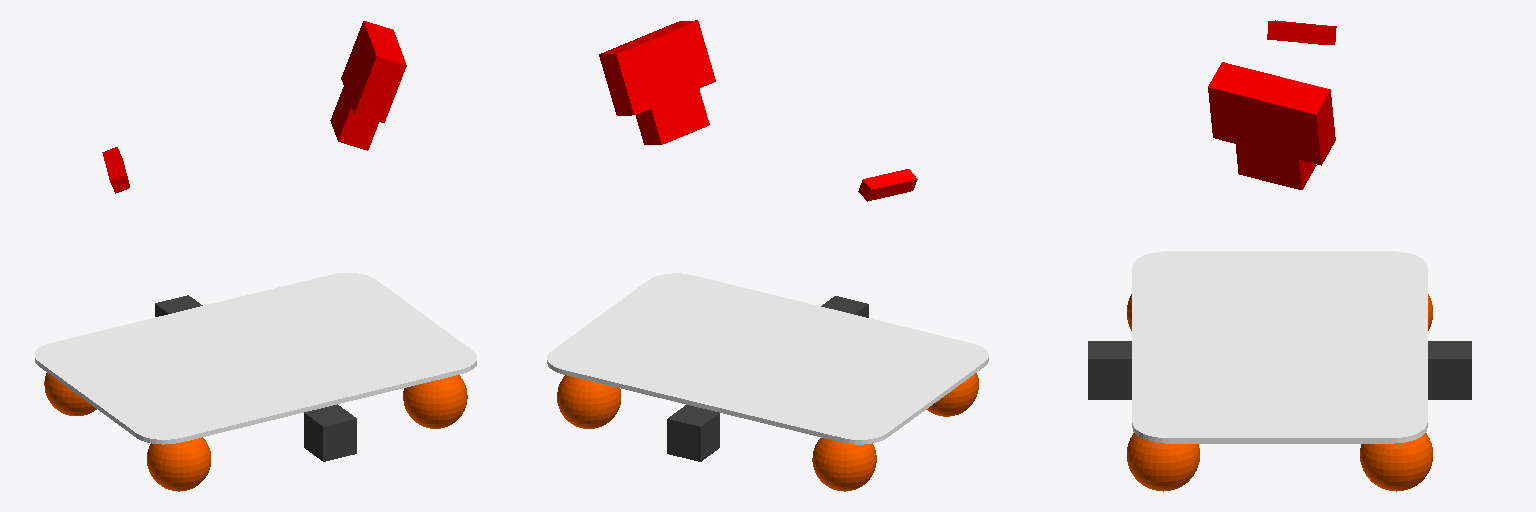
--- Facts derived from the render (not from the file) ---
The picture shows the robot from 3 angles, left to right: view 1: azimuth 30°, elevation 25°; view 2: azimuth 150°, elevation 25°; view 3: azimuth 270°, elevation 25°; orthographic projection.
Model youbot with 31 links and 30 joints (10 revolute, 8 continuous, 2 prismatic, 10 fixed), rooted at base_footprint, posed every joint at zero.
Links seen in each view (by area): view 1: plate_link, gripper_finger_link, wheel_link_br, wheel_link_fr, base_laser_left_link, gripper_palm_link, wheel_link_bl, camera_link, base_laser_right_link; view 2: plate_link, gripper_finger_link, wheel_link_bl, wheel_link_fl, gripper_palm_link, base_laser_right_link, camera_link, wheel_link_br, base_laser_left_link; view 3: plate_link, gripper_finger_link, wheel_link_fl, wheel_link_fr, base_laser_right_link, base_laser_left_link, gripper_palm_link, camera_link.
Boxes of the visible links, <box> form: plate_link: <box>35,273,476,444</box>; gripper_finger_link: <box>341,21,406,122</box>; wheel_link_br: <box>147,437,210,491</box>; wheel_link_fr: <box>403,375,467,428</box>; base_laser_left_link: <box>304,404,356,461</box>; gripper_palm_link: <box>330,87,378,150</box>; wheel_link_bl: <box>44,373,96,415</box>; camera_link: <box>102,147,129,193</box>; base_laser_right_link: <box>155,295,202,316</box>; plate_link: <box>547,273,988,444</box>; gripper_finger_link: <box>599,20,715,115</box>; wheel_link_bl: <box>812,438,876,491</box>; wheel_link_fl: <box>557,375,620,428</box>; gripper_palm_link: <box>636,89,709,144</box>; base_laser_right_link: <box>667,405,719,461</box>; camera_link: <box>858,169,917,201</box>; wheel_link_br: <box>926,373,978,416</box>; base_laser_left_link: <box>821,296,868,317</box>; plate_link: <box>1132,251,1427,443</box>; gripper_finger_link: <box>1208,62,1335,165</box>; wheel_link_fl: <box>1360,433,1432,491</box>; wheel_link_fr: <box>1127,433,1199,491</box>; base_laser_right_link: <box>1428,341,1471,399</box>; base_laser_left_link: <box>1088,341,1131,399</box>; gripper_palm_link: <box>1236,144,1316,189</box>; camera_link: <box>1267,20,1336,44</box>.
Bounding box of the posed robot: 0.6 × 0.52 × 0.6102 m (x, y, z).
Meshes: 9 distinct files referenced, 0 mesh visuals loaded (none loaded); not drawn: 16 (reference not matched to a file when rendering).

URDF robot description (youbot):
<?xml version="1.0" ?>
<!-- =================================================================================== -->
<!-- |    This document was autogenerated by xacro from ros_workspace/youbot-ros-pkg/youbot_common/youbot_description/robots/youbot.urdf.xacro | -->
<!-- |    EDITING THIS FILE BY HAND IS NOT RECOMMENDED                                 | -->
<!-- =================================================================================== -->
<robot name="youbot" xmlns:controller="http://playerstage.sourceforge.net/gazebo/xmlschema/#controller" xmlns:interface="http://playerstage.sourceforge.net/gazebo/xmlschema/#interface" xmlns:sensor="http://playerstage.sourceforge.net/gazebo/xmlschema/#sensor" xmlns:xacro="http://ros.org/wiki/xacro">
  <!-- The following included files set up definitions of parts of the robot body -->
  <!-- misc common stuff? -->
  <!-- youbot base -->
  <!-- youbot plate -->
  <!-- youbot arm -->
  <!-- youbot gripper -->
  <!-- generic simulator_gazebo plugins for starting mechanism control, ros time, ros battery -->
  <gazebo>
    <plugin filename="libgazebo_ros_controller_manager.so" name="gazebo_ros_controller_manager">
      <alwaysOn>true</alwaysOn>
      <updateRate>1000.0</updateRate>
    </plugin>
    <plugin filename="libgazebo_ros_power_monitor.so" name="gazebo_ros_power_monitor_controller">
      <alwaysOn>true</alwaysOn>
      <updateRate>1.0</updateRate>
      <timeout>5</timeout>
      <interface:audio name="power_monitor_dummy_interface"/>
      <powerStateTopic>power_state</powerStateTopic>
      <powerStateRate>10.0</powerStateRate>
      <fullChargeCapacity>87.78</fullChargeCapacity>
      <dischargeRate>-474</dischargeRate>
      <chargeRate>525</chargeRate>
      <dischargeVoltage>15.52</dischargeVoltage>
      <chargeVoltage>16.41</chargeVoltage>
    </plugin>
  </gazebo>
  <!-- materials for visualization -->
  <material name="Orange">
    <color rgba="1.0 0.4 0.0 1.0"/>
  </material>
  <material name="Grey">
    <color rgba="0.7 0.7 0.7 1.0"/>
  </material>
  <material name="DarkGrey">
    <color rgba="0.3 0.3 0.3 1.0"/>
  </material>
  <material name="White">
    <color rgba="1.0 1.0 1.0 1.0"/>
  </material>
  <material name="Black">
    <color rgba="0.0 0.0 0.0 1.0"/>
  </material>
  <material name="Red">
    <color rgba="1.0 0.0 0.0 1.0"/>
  </material>
  <material name="Green">
    <color rgba="0.0 1.0 0.0 1.0"/>
  </material>
  <!-- Now we can start using the macros included above to define the actual youbot -->
  <!-- The first use of a macro.  This one was defined in base.urdf.xacro above.
       A macro like this will expand to a set of link and joint definitions, and to additional
       Gazebo-related extensions (sensor plugins, etc).  The macro takes an argument, name, 
       that equals "base", and uses it to generate names for its component links and joints 
       (e.g., base_link).  The included origin block is also an argument to the macro.  By convention, 
       the origin block defines where the component is w.r.t its parent (in this case the parent 
       is the world frame). For more, see http://www.ros.org/wiki/xacro -->
  <!-- foot for arm-->
  <link name="base_footprint">
    <inertial>
      <mass value="0.1"/>
      <origin rpy="0 0 0" xyz="0 0 -0.05"/>
      <inertia ixx="1.0" ixy="0.0" ixz="0.0" iyy="1.0" iyz="0.0" izz="1.0"/>
    </inertial>
    <visual>
      <origin rpy="0 0 0" xyz="0 0 0"/>
      <geometry>
        <box size="0.001 0.001 0.001"/>
      </geometry>
      <material name="Red"/>
    </visual>
    <collision>
      <origin rpy="0 0 0" xyz="0 0 -0.05"/>
      <geometry>
        <box size="0.001 0.001 0.001"/>
      </geometry>
    </collision>
  </link>
  <joint name="base_footprint_joint" type="fixed">
    <origin rpy="0 0 0" xyz="0 0 0"/>
    <child link="base_link"/>
    <parent link="base_footprint"/>
  </joint>
  <link name="base_link">
    <inertial>
      <mass value="22.0"/>
      <origin xyz="0 0 0"/>
      <inertia ixx="5.652232699207" ixy="-0.009719934438" ixz="1.293988226423" iyy="5.669473158652" iyz="-0.007379583694" izz="3.683196351726"/>
    </inertial>
    <visual>
      <origin rpy="0 0 0" xyz="0 0 0"/>
      <geometry>
        <mesh filename="package://youbot_description/meshes/youbot_base/base.dae"/>
      </geometry>
      <material name="DarkGrey"/>
    </visual>
    <collision>
      <origin rpy="0 0 0" xyz="0 0 0"/>
      <geometry>
        <!--<box size="${base_size_x} ${base_size_y} ${base_size_z}" />-->
        <mesh filename="package://youbot_description/meshes/youbot_base/base_convex.dae"/>
      </geometry>
    </collision>
  </link>
 
  <joint name="caster_joint_fl" type="continuous">
    <origin rpy="0 0 0" xyz="0.228 0.158 -0.034"/>
    <axis xyz="0 0 1"/>
    <limit effort="30" velocity="10"/>
    <dynamics damping="1.0" friction="1.0"/>
    <safety_controller k_velocity="10.0"/>
    <parent link="base_link"/>
    <child link="caster_link_fl"/>
  </joint>
  <link name="caster_link_fl">
    <inertial>
      <mass value="0.1"/>
      <origin xyz="0 0 0"/>
      <inertia ixx="0.012411765597" ixy="-0.000711733678" ixz="0.00050272983" iyy="0.015218160428" iyz="-0.000004273467" izz="0.011763977943"/>
    </inertial>
  </link>
  <joint name="wheel_joint_fl" type="continuous">
    <axis xyz="0 1 0"/>
    <limit effort="30" velocity="10"/>
    <origin rpy="0 0 0" xyz="0.0 0.0 0.0"/>
    <parent link="caster_link_fl"/>
    <dynamics damping="1.0" friction="1.0"/>
    <safety_controller k_velocity="10.0"/>
    <child link="wheel_link_fl"/>
  </joint>
  <link name="wheel_link_fl">
    <inertial>
      <mass value="0.4"/>
      <origin xyz="0 0 0"/>
      <inertia ixx="0.012411765597" ixy="-0.000711733678" ixz="0.00050272983" iyy="0.015218160428" iyz="-0.000004273467" izz="0.011763977943"/>
    </inertial>
    <visual>
      <origin rpy="0 0 0" xyz="0 0 0"/>
      <!--<mesh filename="package://youbot_description/meshes/youbot_base/youbot_wheel.stl" />-->
      <geometry>
        <sphere radius="0.05"/>
      </geometry>
      <material name="Orange"/>
    </visual>
    <collision>
      <origin rpy="1.57079632679 0 0" xyz="0 0 0"/>
      <geometry>
        <cylinder length="0.05" radius="0.05"/>
      </geometry>
    </collision>
  </link>
  <joint name="caster_joint_fr" type="continuous">
    <origin rpy="0 0 0" xyz="0.228 -0.158 -0.034"/>
    <axis xyz="0 0 1"/>
    <limit effort="30" velocity="10"/>
    <dynamics damping="1.0" friction="1.0"/>
    <safety_controller k_velocity="10.0"/>
    <parent link="base_link"/>
    <child link="caster_link_fr"/>
  </joint>
  <link name="caster_link_fr">
    <inertial>
      <mass value="0.1"/>
      <origin xyz="0 0 0"/>
      <inertia ixx="0.012411765597" ixy="-0.000711733678" ixz="0.00050272983" iyy="0.015218160428" iyz="-0.000004273467" izz="0.011763977943"/>
    </inertial>
  </link>
  <joint name="wheel_joint_fr" type="continuous">
    <axis xyz="0 1 0"/>
    <limit effort="30" velocity="10"/>
    <dynamics damping="1.0" friction="1.0"/>
    <safety_controller k_velocity="10.0"/>
    <origin rpy="0 0 0" xyz="0.0 0.0 0.0"/>
    <parent link="caster_link_fr"/>
    <child link="wheel_link_fr"/>
  </joint>
  <link name="wheel_link_fr">
    <inertial>
      <mass value="0.4"/>
      <origin xyz="0 0 0"/>
      <inertia ixx="0.012411765597" ixy="-0.000711733678" ixz="0.00050272983" iyy="0.015218160428" iyz="-0.000004273467" izz="0.011763977943"/>
    </inertial>
    <visual>
      <origin rpy="0 0 0" xyz="0 0 0"/>
      <geometry>
        <!--<mesh filename="package://youbot_description/meshes/youbot_base/youbot_wheel.stl" />-->
        <sphere radius="0.05"/>
      </geometry>
      <material name="Orange"/>
    </visual>
    <collision>
      <origin rpy="1.57079632679 0 0" xyz="0 0 0"/>
      <geometry>
        <cylinder length="0.05" radius="0.05"/>
      </geometry>
    </collision>
  </link>
  <joint name="caster_joint_bl" type="continuous">
    <origin rpy="0 0 0" xyz="-0.228 0.158 -0.034"/>
    <axis xyz="0 0 1"/>
    <limit effort="30" velocity="10"/>
    <dynamics damping="1.0" friction="1.0"/>
    <safety_controller k_velocity="10.0"/>
    <parent link="base_link"/>
    <child link="caster_link_bl"/>
  </joint>
  <link name="caster_link_bl">
    <inertial>
      <mass value="0.1"/>
      <origin xyz="0 0 0"/>
      <inertia ixx="0.012411765597" ixy="-0.000711733678" ixz="0.00050272983" iyy="0.015218160428" iyz="-0.000004273467" izz="0.011763977943"/>
    </inertial>
  </link>
  <joint name="wheel_joint_bl" type="continuous">
    <axis xyz="0 1 0"/>
    <limit effort="10" velocity="10"/>
    <dynamics damping="1.0" friction="1.0"/>
    <safety_controller k_velocity="10.0"/>
    <origin rpy="0 0 0" xyz="0.0 0.0 0.0"/>
    <parent link="caster_link_bl"/>
    <child link="wheel_link_bl"/>
  </joint>
  <link name="wheel_link_bl">
    <inertial>
      <mass value="0.4"/>
      <origin xyz="0 0 0"/>
      <inertia ixx="0.012411765597" ixy="-0.000711733678" ixz="0.00050272983" iyy="0.015218160428" iyz="-0.000004273467" izz="0.011763977943"/>
    </inertial>
    <visual>
      <origin rpy="0 0 0" xyz="0 0 0"/>
      <geometry>
        <!--<mesh filename="package://youbot_description/meshes/youbot_base/youbot_wheel.stl" />-->
        <sphere radius="0.05"/>
      </geometry>
      <material name="Orange"/>
    </visual>
    <collision>
      <origin rpy="1.57079632679 0 0" xyz="0 0 0"/>
      <geometry>
        <cylinder length="0.05" radius="0.05"/>
      </geometry>
    </collision>
  </link>
  <joint name="caster_joint_br" type="continuous">
    <origin rpy="0 0 0" xyz="-0.228 -0.158 -0.034"/>
    <axis xyz="0 0 1"/>
    <limit effort="30" velocity="10"/>
    <dynamics damping="1.0" friction="1.0"/>
    <safety_controller k_velocity="10.0"/>
    <parent link="base_link"/>
    <child link="caster_link_br"/>
  </joint>
  <link name="caster_link_br">
    <inertial>
      <mass value="0.1"/>
      <origin xyz="0 0 0"/>
      <inertia ixx="0.012411765597" ixy="-0.000711733678" ixz="0.00050272983" iyy="0.015218160428" iyz="-0.000004273467" izz="0.011763977943"/>
    </inertial>
  </link>
  <joint name="wheel_joint_br" type="continuous">
    <axis xyz="0 1 0"/>
    <limit effort="30" velocity="10"/>
    <dynamics damping="1.0" friction="1.0"/>
    <safety_controller k_velocity="10.0"/>
    <origin rpy="0 0 0" xyz="0.0 0.0 0.0"/>
    <parent link="caster_link_br"/>
    <child link="wheel_link_br"/>
  </joint>
  <link name="wheel_link_br">
    <inertial>
      <mass value="0.4"/>
      <origin xyz="0 0 0"/>
      <inertia ixx="0.012411765597" ixy="-0.000711733678" ixz="0.00050272983" iyy="0.015218160428" iyz="-0.000004273467" izz="0.011763977943"/>
    </inertial>
    <visual>
      <origin rpy="0 0 0" xyz="0 0 0"/>
      <geometry>
        <!--<mesh filename="package://youbot_description/meshes/youbot_base/youbot_wheel.stl" />-->
        <sphere radius="0.05"/>
      </geometry>
      <material name="Orange"/>
    </visual>
    <collision>
      <origin rpy="1.57079632679 0 0" xyz="0 0 0"/>
      <geometry>
        <cylinder length="0.05" radius="0.05"/>
      </geometry>
    </collision>
  </link>
  <gazebo reference="youbot_base">
    <material value="youbot/DarkGrey"/>
  </gazebo>
  <gazebo reference="wheel_link_fl">
    <material value="youbot/Orange"/>
  </gazebo>
  <gazebo reference="caster_link_fl">
    <material value="youbot/Orange"/>
  </gazebo>
  <gazebo reference="wheel_link_fr">
    <material value="youbot/Orange"/>
  </gazebo>
  <gazebo reference="caster_link_fr">
    <material value="youbot/Orange"/>
  </gazebo>
  <gazebo reference="wheel_link_bl">
    <material value="youbot/Orange"/>
  </gazebo>
  <gazebo reference="caster_link_bl">
    <material value="youbot/Orange"/>
  </gazebo>
  <gazebo reference="wheel_link_br">
    <material value="youbot/Orange"/>
  </gazebo>
  <gazebo reference="caster_link_br">
    <material value="youbot/Orange"/>
  </gazebo>
  <gazebo>
    <plugin filename="libgazebo_ros_p3d.so" name="p3d_base_controller">
      <alwaysOn>true</alwaysOn>
      <updateRate>100.0</updateRate>
      <bodyName>base_link</bodyName>
      <topicName>base_pose_ground_truth</topicName>
      <gaussianNoise>0.01</gaussianNoise>
      <frameName>map</frameName>
      <xyzOffsets>25.7 25.7 0</xyzOffsets>
      <!-- initialize odometry for fake localization-->
      <rpyOffsets>0 0 0</rpyOffsets>
    </plugin>
    <canonicalBody>base_footprint</canonicalBody>
  </gazebo>
  <transmission name="wheel_trans_fl" type="pr2_mechanism_model/SimpleTransmission">
    <actuator name="wheel_motor_fl"/>
    <joint name="wheel_joint_fl"/>
    <mechanicalReduction>79.2380952381</mechanicalReduction>
  </transmission>
  <transmission name="caster_trans_fl" type="pr2_mechanism_model/SimpleTransmission">
    <actuator name="caster_motor_fl"/>
    <joint name="caster_joint_fl"/>
    <mechanicalReduction>79.2380952381</mechanicalReduction>
  </transmission>
  <transmission name="wheel_trans_fr" type="pr2_mechanism_model/SimpleTransmission">
    <actuator name="wheel_motor_fr"/>
    <joint name="wheel_joint_fr"/>
    <mechanicalReduction>79.2380952381</mechanicalReduction>
  </transmission>
  <transmission name="caster_trans_fr" type="pr2_mechanism_model/SimpleTransmission">
    <actuator name="caster_motor_fr"/>
    <joint name="caster_joint_fr"/>
    <mechanicalReduction>79.2380952381</mechanicalReduction>
  </transmission>
  <transmission name="wheel_trans_bl" type="pr2_mechanism_model/SimpleTransmission">
    <actuator name="wheel_motor_bl"/>
    <joint name="wheel_joint_bl"/>
    <mechanicalReduction>79.2380952381</mechanicalReduction>
  </transmission>
  <transmission name="caster_trans_bl" type="pr2_mechanism_model/SimpleTransmission">
    <actuator name="caster_motor_bl"/>
    <joint name="caster_joint_bl"/>
    <mechanicalReduction>79.2380952381</mechanicalReduction>
  </transmission>
  <transmission name="wheel_trans_br" type="pr2_mechanism_model/SimpleTransmission">
    <actuator name="wheel_motor_br"/>
    <joint name="wheel_joint_br"/>
    <mechanicalReduction>79.2380952381</mechanicalReduction>
  </transmission>
  <transmission name="caster_trans_br" type="pr2_mechanism_model/SimpleTransmission">
    <actuator name="caster_motor_br"/>
    <joint name="caster_joint_br"/>
    <mechanicalReduction>79.2380952381</mechanicalReduction>
  </transmission>


  <joint name="plate_joint" type="fixed">
        <origin rpy="0 0 0" xyz="0.0 0 0.02" />
        <parent link="base_link" />
        <child link="plate_link" />
  </joint>
  <link name="plate_link">
      <visual>
          <geometry>
              <box size="0.6 0.3 0.008" />
          </geometry>
          <origin xyz="0.0 0 0 " rpy="0 0 0." />
          <material name="White" />
      </visual>
      <collision>
          <origin xyz="0 0 0 " rpy="0 0 0." />
          <geometry>
              <box size="0.6 0.3 0.008" />
          </geometry>
      </collision>
      <visual>
          <geometry>
              <box size="0.5 0.4 0.008" />
          </geometry>
          <origin xyz="0.0 0 0 " rpy="0 0 0." />
          <material name="White" />
      </visual>
      <collision>
          <origin xyz="0 0 0 " rpy="0 0 0." />
          <geometry>
              <box size="0.5 0.4 0.008" />
          </geometry>
      </collision>
      <visual>
          <geometry>
              <cylinder length="0.008" radius="0.05" />
          </geometry>
          <origin xyz="0.25 0.15 0 " rpy="0 0 0." />
          <material name="White" />
      </visual>
      <collision>
          <origin xyz="0.25 0.15 0 " rpy="0 0 0." />
          <geometry>
              <cylinder length="0.008" radius="0.05" />
          </geometry>
      </collision>
      <visual>
          <geometry>
              <cylinder length="0.008" radius="0.05" />
          </geometry>
          <origin xyz="0.25 -0.15 0 " rpy="0 0 0." />
          <material name="White" />
      </visual>
      <collision>
          <origin xyz="0.25 -0.15 0 " rpy="0 0 0." />
          <geometry>
              <cylinder length="0.008" radius="0.05" />
          </geometry>
      </collision>
      <visual>
          <geometry>
              <cylinder length="0.008" radius="0.05" />
          </geometry>
          <origin xyz="-0.25 0.15 0 " rpy="0 0 0." />
          <material name="White" />
      </visual>
      <collision>
          <origin xyz="-0.25 0.15 0 " rpy="0 0 0." />
          <geometry>
              <cylinder length="0.008" radius="0.05" />
          </geometry>
      </collision>
      <visual>
          <geometry>
              <cylinder length="0.008" radius="0.05" />
          </geometry>
          <origin xyz="-0.25 -0.15 0 " rpy="0 0 0." />
          <material name="White" />
      </visual>
      <collision>
          <origin xyz="-0.25 -0.15 0 " rpy="0 0 0." />
          <geometry>
              <cylinder length="0.008" radius="0.05" />
          </geometry>
      </collision>
      
      <inertial>
          <mass value="0.1" />
          <inertia ixx="0.03" iyy="0.03" izz="0.03" ixy="0.0" ixz="0.0" iyz="0.0" />
      </inertial>
    </link>

  <joint name="base_laser_right_joint" type="fixed">
      <origin rpy="0 0 0" xyz="0.0 0.23 -0.004" />
      <parent link="plate_link" />
      <child link="base_laser_right_link" />
  </joint>
  <link name="base_laser_right_link">
      <visual>
          <geometry>
              <box size="0.06 0.06 0.06" />
          </geometry>
          <origin xyz="0.0 0 -0.03 " rpy="0 0 0." />
          <material name="DarkGrey" />
      </visual>
      <collision>
          <origin xyz="0.0 0 -0.03 " rpy="0 0 0." />
          <geometry>
              <box size="0.06 0.06 0.06" />
          </geometry>
      </collision>
      
      <inertial>
          <mass value="0.1" />
          <inertia ixx="0.03" iyy="0.03" izz="0.03" ixy="0.0" ixz="0.0" iyz="0.0" />
      </inertial>

  </link>
  <joint name="base_laser_left_joint" type="fixed">
      <origin rpy="0 0 0" xyz="0.0 -0.23 -0.004" />
      <parent link="plate_link" />
      <child link="base_laser_left_link" />
  </joint>
  <link name="base_laser_left_link">
      <visual>
          <geometry>
              <box size="0.06 0.06 0.06" />
          </geometry>
          <origin xyz="0.0 0 -0.03 " rpy="0 0 0." />
          <material name="DarkGrey" />
      </visual>
      <collision>
          <origin xyz="0.0 0 -0.03 " rpy="0 0 0." />
          <geometry>
              <box size="0.06 0.06 0.06" />
          </geometry>
      </collision>
      <inertial>
          <mass value="0.1" />
          <inertia ixx="0.03" iyy="0.03" izz="0.03" ixy="0.0" ixz="0.0" iyz="0.0" />
      </inertial>
  </link>

  <joint name="arm_joint_0" type="fixed">
    <origin rpy="0 0 0" xyz="0.123 0 0.056"/>
    <parent link="base_link"/>
    <child link="arm_link_0"/>
  </joint>
  <link name="arm_link_0">
    <inertial>
      <!--<origin xyz="0.023 0 0.006" rpy="0 0 0"/>-->
      <origin rpy="0 0 0" xyz="0 0 0"/>
      <mass value="0.845"/>
      <inertia ixx="0.01" ixy="0" ixz="0" iyy="0.01" iyz="0" izz="0.01"/>
    </inertial>
    <visual>
      <origin rpy="0 0 0" xyz="0 0 0"/>
      <geometry>
        <mesh filename="package://youbot_description/meshes/youbot_arm/arm0.dae"/>
      </geometry>
      <material name="DarkGrey"/>
    </visual>
    <collision>
      <!--<origin xyz="0.023 0 0.006" rpy="0 0 0"/>-->
      <origin rpy="0 0 0" xyz="0 0 0"/>
      <geometry>
        <mesh filename="package://youbot_description/meshes/youbot_arm/arm0_convex.dae"/>
        <!--<cylinder length="0.078" radius="0.093"/>-->
      </geometry>
    </collision>
  </link>
  <joint name="arm_joint_1" type="revolute">
    <!-- <origin rpy="0 0 2.96705972839" xyz="0.024 0 0.096"/> -->
    <origin rpy="0 0 2.94960643587" xyz="0.024 0 0.096"/>
    <parent link="arm_link_0"/>
    <child link="arm_link_1"/>
    <axis xyz="0 0 -1"/>
    <!--<calibration rising="${arm_1_ref}" falling="${arm_1_ref}"/>-->
    <dynamics damping="1" friction="1"/>
    <!-- damping - N*s/m, N*s*m/rad -->
    <!-- friction - N, N*m -->
    <limit effort="9.5" lower="0" upper="5.89921287174" velocity="1.57079632679"/>
    <!--effort - N, N*m-->
    <!--velocity - m/s, rad/s-->
    <safety_controller k_position="20" k_velocity="1.51197195937" soft_lower_limit="0.001" soft_upper_limit="5.89821287174"/>
    <!--k_position N/m, N/rad-->
    <!--k_velocity N*s/m, N*s*m/rad-->
    <!--for details: http://www.ros.org/wiki/pr2_controller_manager/safety_limits-->
  </joint>
  <link name="arm_link_1">
    <inertial>
      <mass value="2.412"/>
      <origin rpy="0 0 0" xyz="0.01489 0.00213 0.00213"/>
      <inertia ixx="0.003863" ixy="-0.000979" ixz="0.000000" iyy="0.006196" iyz="0.000000" izz="0.006369"/>
    </inertial>
    <visual>
      <origin rpy="0 0 0" xyz="0 0 0"/>
      <geometry>
        <mesh filename="package://youbot_description/meshes/youbot_arm/arm1.dae"/>
      </geometry>
      <!--<material name="Orange" />-->
    </visual>
    <collision>
      <!--<origin xyz="0 0 -0.003" rpy="0 0 0" />-->
      <origin rpy="0 0 0" xyz="0 0 0"/>
      <geometry>
        <mesh filename="package://youbot_description/meshes/youbot_arm/arm1_convex.dae"/>
        <!--<cylinder length="0.102" radius="0.080"/>-->
      </geometry>
    </collision>
  </link>
  <joint name="arm_joint_2" type="revolute">
    <origin rpy="0 -1.1344640138 0" xyz="0.033 0 0.019"/>
    <parent link="arm_link_1"/>
    <child link="arm_link_2"/>
    <axis xyz="0 1 0"/>
    <!--<calibration rising="${arm_2_ref}" falling="${arm_2_ref}"/>-->
    <dynamics damping="1" friction="1"/>
    <limit effort="9.5" lower="0" upper="2.70526034059" velocity="1.57079632679"/>
    <safety_controller k_position="20" k_velocity="6.04788783749" soft_lower_limit="0.001" soft_upper_limit="2.70426034059"/>
  </joint>
  <link name="arm_link_2">
    <inertial>
      <mass value="1.155"/>
      <origin rpy="0 0 0" xyz="0.10453 0.0017 -0.00297"/>
      <inertia ixx="0.000823" ixy="0.000000" ixz="-0.000000" iyy="0.004447" iyz="0.000000" izz="0.004439"/>
    </inertial>
    <visual>
      <origin rpy="0 0 0" xyz="0 -0.032 0.078"/>
      <geometry>
        <mesh filename="package://youbot_description/meshes/youbot_arm/arm2.dae"/>
      </geometry>
      <material name="Orange"/>
    </visual>
    <collision>
      <!--<origin xyz="0.001 -0.041 0.074" rpy="0 0 0" />-->
      <origin rpy="0 0 0" xyz="0 -0.032 0.078"/>
      <geometry>
        <mesh filename="package://youbot_description/meshes/youbot_arm/arm2_convex.dae"/>
        <!--<box size="0.074 0.082 0.222"/>-->
      </geometry>
    </collision>
  </link>
  <joint name="arm_joint_3" type="revolute">
    <origin rpy="0 2.54818070791 0" xyz="0.000 0.000 0.155"/>
    <parent link="arm_link_2"/>
    <child link="arm_link_3"/>
    <axis xyz="0 1 0"/>
    <dynamics damping="1" friction="1"/>
    <limit effort="6.0" lower="-5.18362787842" upper="0" velocity="1.57079632679"/>
    <safety_controller k_position="20" k_velocity="50" soft_lower_limit="-5.18262787842" soft_upper_limit="-0.001"/>
  </joint>
  <link name="arm_link_3">
    <inertial>
      <mass value="0.934"/>
      <origin rpy="0 0 0" xyz="0.0001 0.0967 0.02107"/>
      <inertia ixx="0.002459" ixy="0.000000" ixz="0.000000" iyy="0.002571" iyz="-0.000000" izz="0.000535"/>
    </inertial>
    <visual>
      <origin rpy="0 0 0" xyz="0.000 0.028 0.079"/>
      <geometry>
        <mesh filename="package://youbot_description/meshes/youbot_arm/arm3.dae"/>
      </geometry>
      <material name="Orange"/>
    </visual>
    <collision>
      <!--<origin xyz="0.000 0.025 0.067" rpy="0 0 0" />-->
      <origin rpy="0 0 0" xyz="0.000 0.028 0.079"/>
      <geometry>
        <mesh filename="package://youbot_description/meshes/youbot_arm/arm3_convex.dae"/>
        <!--<box size="0.064 0.054 0.192"/>-->
      </geometry>
    </collision>
  </link>
  <joint name="arm_joint_4" type="revolute">
    <origin rpy="0 -1.78896248329 0" xyz="0.000 0.000 0.135"/>
    <parent link="arm_link_3"/>
    <child link="arm_link_4"/>
    <axis xyz="0 1 0"/>
    <!--<calibration rising="${arm_4_ref}" falling="${arm_4_ref}"/>-->
    <dynamics damping="1" friction="1"/>
    <limit effort="2.0" lower="0" upper="3.57792496659" velocity="1.57079632679"/>
    <safety_controller k_position="20" k_velocity="100" soft_lower_limit="0" soft_upper_limit="3.57692496659"/>
  </joint>
  <link name="arm_link_4">
    <inertial>
      <mass value="0.877"/>
      <origin rpy="0 0 0" xyz="0.00011 0.05103 -0.02319"/>
      <inertia ixx="0.000869" ixy="0.000000" ixz="-0.000000" iyy="0.001173" iyz="-0.000231" izz="0.001091"/>
    </inertial>
    <visual>
      <origin rpy="0 0 0" xyz="0 -0.010 0.029"/>
      <geometry>
        <mesh filename="package://youbot_description/meshes/youbot_arm/arm4.dae"/>
      </geometry>
      <material name="Orange"/>
    </visual>
    <collision>
      <!--<origin xyz="0 0 0.026" rpy="0 0 0" />-->
      <origin rpy="0 0 0" xyz="0 -0.010 0.029"/>
      <geometry>
        <mesh filename="package://youbot_description/meshes/youbot_arm/arm4_convex.dae"/>
        <!--<box size="0.058 0.100 0.118"/>-->
      </geometry>
    </collision>
  </link>
  <joint name="arm_joint_5" type="revolute">
    <origin rpy="0 0 2.92342649709" xyz="-0.002 0 0.130"/>
    <parent link="arm_link_4"/>
    <child link="arm_link_5"/>
    <axis xyz="0 0 -1"/>
    <!--<calibration rising="${arm_5_ref}" falling="${arm_5_ref}"/>-->
    <dynamics damping="1" friction="1"/>
    <limit effort="1" lower="0" upper="5.84685299418" velocity="1.57079632679"/>
    <safety_controller k_position="20" k_velocity="100" soft_lower_limit="0" soft_upper_limit="5.84585299418"/>
  </joint>
  <link name="arm_link_5">
    <inertial>
      <mass value="0.251"/>
      <origin rpy="0 0 0" xyz="0.0 0.00115 -0.01683"/>
      <inertia ixx="0.000280" ixy="0.000000" ixz="0.000000" iyy="0.000339" iyz="0.000000" izz="0.000119"/>
    </inertial>
    <visual>
      <origin rpy="0 0 0" xyz="0.003 0 -0.034"/>
      <geometry>
        <mesh filename="package://youbot_description/meshes/youbot_arm/arm5.dae"/>
      </geometry>
      <material name="DarkGrey"/>
    </visual>
    <collision>
      <origin rpy="0 0 0" xyz="0.003 0 -0.034"/>
      <geometry>
        <mesh filename="package://youbot_description/meshes/youbot_arm/arm5_convex.dae"/>
        <!--<box size="0.054 0.096 0.030"/>-->
      </geometry>
    </collision>
  </link>
  <gazebo reference="arm_link_0">
    <material value="youbot/DarkGrey"/>
    <turnGravityOff>false</turnGravityOff>
  </gazebo>
  <gazebo reference="arm_link_1">
    <!--<material value="youbot/Orange" />-->
    <turnGravityOff>false</turnGravityOff>
  </gazebo>
  <gazebo reference="arm_link_2">
    <!--<material value="youbot/Orange" />-->
    <turnGravityOff>false</turnGravityOff>
  </gazebo>
  <gazebo reference="arm_link_3">
    <!--<material value="youbot/Orange" />-->
    <turnGravityOff>false</turnGravityOff>
  </gazebo>
  <gazebo reference="arm_link_4">
    <!--<material value="youbot/Orange" />-->
    <turnGravityOff>false</turnGravityOff>
  </gazebo>
  <gazebo reference="arm_link_5">
    <!--<material value="youbot/DarkGrey" />-->
    <turnGravityOff>false</turnGravityOff>
  </gazebo>
  <transmission name="arm_trans_1" type="pr2_mechanism_model/SimpleTransmission">
    <actuator name="arm_motor_1"/>
    <joint name="arm_joint_1"/>
    <mechanicalReduction>1</mechanicalReduction>
  </transmission>
  <transmission name="arm_trans_2" type="pr2_mechanism_model/SimpleTransmission">
    <actuator name="arm_motor_2"/>
    <joint name="arm_joint_2"/>
    <mechanicalReduction>1</mechanicalReduction>
  </transmission>
  <transmission name="arm_trans_3" type="pr2_mechanism_model/SimpleTransmission">
    <actuator name="arm_motor_3"/>
    <joint name="arm_joint_3"/>
    <mechanicalReduction>1</mechanicalReduction>
  </transmission>
  <transmission name="arm_trans_4" type="pr2_mechanism_model/SimpleTransmission">
    <actuator name="arm_motor_4"/>
    <joint name="arm_joint_4"/>
    <mechanicalReduction>1</mechanicalReduction>
  </transmission>
  <transmission name="arm_trans_5" type="pr2_mechanism_model/SimpleTransmission">
    <actuator name="arm_motor_5"/>
    <joint name="arm_joint_5"/>
    <mechanicalReduction>1</mechanicalReduction>
  </transmission>
    <joint name="arm_2_joint_0" type="fixed">
    <origin rpy="0 0 3.1415" xyz="-0.123 0 0.056"/>
    <parent link="base_link"/>
    <child link="arm_2_link_0"/>
  </joint>
  <link name="arm_2_link_0">
    <inertial>
      <!--<origin xyz="0.023 0 0.006" rpy="0 0 0"/>-->
      <origin rpy="0 0 0" xyz="0 0 0"/>
      <mass value="0.845"/>
      <inertia ixx="0.01" ixy="0" ixz="0" iyy="0.01" iyz="0" izz="0.01"/>
    </inertial>
    <visual>
      <origin rpy="0 0 0" xyz="0 0 0"/>
      <geometry>
        <mesh filename="package://youbot_description/meshes/youbot_arm/arm0.dae"/>
      </geometry>
      <material name="DarkGrey"/>
    </visual>
    <collision>
      <!--<origin xyz="0.023 0 0.006" rpy="0 0 0"/>-->
      <origin rpy="0 0 0" xyz="0 0 0"/>
      <geometry>
        <mesh filename="package://youbot_description/meshes/youbot_arm/arm0_convex.dae"/>
        <!--<cylinder length="0.078" radius="0.093"/>-->
      </geometry>
    </collision>
  </link>
  <joint name="arm_2_joint_1" type="revolute">
    <!-- <origin rpy="0 0 2.96705972839" xyz="0.024 0 0.096"/> -->
    <origin rpy="0 0 2.94960643587" xyz="0.024 0 0.096"/>
    <parent link="arm_2_link_0"/>
    <child link="arm_2_link_1"/>
    <axis xyz="0 0 -1"/>
    <!--<calibration rising="${arm_1_ref}" falling="${arm_1_ref}"/>-->
    <dynamics damping="1" friction="1"/>
    <!-- damping - N*s/m, N*s*m/rad -->
    <!-- friction - N, N*m -->
    <limit effort="9.5" lower="0" upper="5.89921287174" velocity="1.57079632679"/>
    <!--effort - N, N*m-->
    <!--velocity - m/s, rad/s-->
    <safety_controller k_position="20" k_velocity="1.51197195937" soft_lower_limit="0.001" soft_upper_limit="5.89821287174"/>
    <!--k_position N/m, N/rad-->
    <!--k_velocity N*s/m, N*s*m/rad-->
    <!--for details: http://www.ros.org/wiki/pr2_controller_manager/safety_limits-->
  </joint>
  <link name="arm_2_link_1">
    <inertial>
      <mass value="2.412"/>
      <origin rpy="0 0 0" xyz="0.01489 0.00213 0.00213"/>
      <inertia ixx="0.003863" ixy="-0.000979" ixz="0.000000" iyy="0.006196" iyz="0.000000" izz="0.006369"/>
    </inertial>
    <visual>
      <origin rpy="0 0 0" xyz="0 0 0"/>
      <geometry>
        <mesh filename="package://youbot_description/meshes/youbot_arm/arm1.dae"/>
      </geometry>
      <!--<material name="Orange" />-->
    </visual>
    <collision>
      <!--<origin xyz="0 0 -0.003" rpy="0 0 0" />-->
      <origin rpy="0 0 0" xyz="0 0 0"/>
      <geometry>
        <mesh filename="package://youbot_description/meshes/youbot_arm/arm1_convex.dae"/>
        <!--<cylinder length="0.102" radius="0.080"/>-->
      </geometry>
    </collision>
  </link>
  <joint name="arm_2_joint_2" type="revolute">
    <origin rpy="0 -1.1344640138 0" xyz="0.033 0 0.019"/>
    <parent link="arm_2_link_1"/>
    <child link="arm_2_link_2"/>
    <axis xyz="0 1 0"/>
    <!--<calibration rising="${arm_2_ref}" falling="${arm_2_ref}"/>-->
    <dynamics damping="1" friction="1"/>
    <limit effort="9.5" lower="0" upper="2.70526034059" velocity="1.57079632679"/>
    <safety_controller k_position="20" k_velocity="6.04788783749" soft_lower_limit="0.001" soft_upper_limit="2.70426034059"/>
  </joint>
  <link name="arm_2_link_2">
    <inertial>
      <mass value="1.155"/>
      <origin rpy="0 0 0" xyz="0.10453 0.0017 -0.00297"/>
      <inertia ixx="0.000823" ixy="0.000000" ixz="-0.000000" iyy="0.004447" iyz="0.000000" izz="0.004439"/>
    </inertial>
    <visual>
      <origin rpy="0 0 0" xyz="0 -0.032 0.078"/>
      <geometry>
        <mesh filename="package://youbot_description/meshes/youbot_arm/arm2.dae"/>
      </geometry>
      <material name="Orange"/>
    </visual>
    <collision>
      <!--<origin xyz="0.001 -0.041 0.074" rpy="0 0 0" />-->
      <origin rpy="0 0 0" xyz="0 -0.032 0.078"/>
      <geometry>
        <mesh filename="package://youbot_description/meshes/youbot_arm/arm2_convex.dae"/>
        <!--<box size="0.074 0.082 0.222"/>-->
      </geometry>
    </collision>
  </link>
  <joint name="arm_2_joint_3" type="revolute">
    <origin rpy="0 2.54818070791 0" xyz="0.000 0.000 0.155"/>
    <parent link="arm_2_link_2"/>
    <child link="arm_2_link_3"/>
    <axis xyz="0 1 0"/>
    <dynamics damping="1" friction="1"/>
    <limit effort="6.0" lower="-5.18362787842" upper="0" velocity="1.57079632679"/>
    <safety_controller k_position="20" k_velocity="50" soft_lower_limit="-5.18262787842" soft_upper_limit="-0.001"/>
  </joint>
  <link name="arm_2_link_3">
    <inertial>
      <mass value="0.934"/>
      <origin rpy="0 0 0" xyz="0.0001 0.0967 0.02107"/>
      <inertia ixx="0.002459" ixy="0.000000" ixz="0.000000" iyy="0.002571" iyz="-0.000000" izz="0.000535"/>
    </inertial>
    <visual>
      <origin rpy="0 0 0" xyz="0.000 0.028 0.079"/>
      <geometry>
        <mesh filename="package://youbot_description/meshes/youbot_arm/arm3.dae"/>
      </geometry>
      <material name="Orange"/>
    </visual>
    <collision>
      <!--<origin xyz="0.000 0.025 0.067" rpy="0 0 0" />-->
      <origin rpy="0 0 0" xyz="0.000 0.028 0.079"/>
      <geometry>
        <mesh filename="package://youbot_description/meshes/youbot_arm/arm3_convex.dae"/>
        <!--<box size="0.064 0.054 0.192"/>-->
      </geometry>
    </collision>
  </link>
  <joint name="arm_2_joint_4" type="revolute">
    <origin rpy="0 -1.78896248329 0" xyz="0.000 0.000 0.135"/>
    <parent link="arm_2_link_3"/>
    <child link="arm_2_link_4"/>
    <axis xyz="0 1 0"/>
    <!--<calibration rising="${arm_4_ref}" falling="${arm_4_ref}"/>-->
    <dynamics damping="1" friction="1"/>
    <limit effort="2.0" lower="0" upper="3.57792496659" velocity="1.57079632679"/>
    <safety_controller k_position="20" k_velocity="100" soft_lower_limit="0" soft_upper_limit="3.57692496659"/>
  </joint>
  <link name="arm_2_link_4">
    <inertial>
      <mass value="0.877"/>
      <origin rpy="0 0 0" xyz="0.00011 0.05103 -0.02319"/>
      <inertia ixx="0.000869" ixy="0.000000" ixz="-0.000000" iyy="0.001173" iyz="-0.000231" izz="0.001091"/>
    </inertial>
    <visual>
      <origin rpy="0 0 0" xyz="0 -0.010 0.029"/>
      <geometry>
        <mesh filename="package://youbot_description/meshes/youbot_arm/arm4.dae"/>
      </geometry>
      <material name="Orange"/>
    </visual>
    <collision>
      <!--<origin xyz="0 0 0.026" rpy="0 0 0" />-->
      <origin rpy="0 0 0" xyz="0 -0.010 0.029"/>
      <geometry>
        <mesh filename="package://youbot_description/meshes/youbot_arm/arm4_convex.dae"/>
        <!--<box size="0.058 0.100 0.118"/>-->
      </geometry>
    </collision>
  </link>
  <joint name="arm_2_joint_5" type="revolute">
    <origin rpy="0 0 2.92342649709" xyz="-0.002 0 0.130"/>
    <parent link="arm_2_link_4"/>
    <child link="arm_2_link_5"/>
    <axis xyz="0 0 -1"/>
    <!--<calibration rising="${arm_5_ref}" falling="${arm_5_ref}"/>-->
    <dynamics damping="1" friction="1"/>
    <limit effort="1" lower="0" upper="5.84685299418" velocity="1.57079632679"/>
    <safety_controller k_position="20" k_velocity="100" soft_lower_limit="0" soft_upper_limit="5.84585299418"/>
  </joint>
  <link name="arm_2_link_5">
    <inertial>
      <mass value="0.251"/>
      <origin rpy="0 0 0" xyz="0.0 0.00115 -0.01683"/>
      <inertia ixx="0.000280" ixy="0.000000" ixz="0.000000" iyy="0.000339" iyz="0.000000" izz="0.000119"/>
    </inertial>
    <visual>
      <origin rpy="0 0 0" xyz="0.003 0 -0.034"/>
      <geometry>
        <mesh filename="package://youbot_description/meshes/youbot_arm/arm5.dae"/>
      </geometry>
      <material name="DarkGrey"/>
    </visual>
    <collision>
      <origin rpy="0 0 0" xyz="0.003 0 -0.034"/>
      <geometry>
        <mesh filename="package://youbot_description/meshes/youbot_arm/arm5_convex.dae"/>
        <!--<box size="0.054 0.096 0.030"/>-->
      </geometry>
    </collision>
  </link>
  <gazebo reference="arm_2_link_0">
    <material value="youbot/DarkGrey"/>
    <turnGravityOff>false</turnGravityOff>
  </gazebo>
  <gazebo reference="arm_2_link_1">
    <!--<material value="youbot/Orange" />-->
    <turnGravityOff>false</turnGravityOff>
  </gazebo>
  <gazebo reference="arm_2_link_2">
    <!--<material value="youbot/Orange" />-->
    <turnGravityOff>false</turnGravityOff>
  </gazebo>
  <gazebo reference="arm_2_link_3">
    <!--<material value="youbot/Orange" />-->
    <turnGravityOff>false</turnGravityOff>
  </gazebo>
  <gazebo reference="arm_2_link_4">
    <!--<material value="youbot/Orange" />-->
    <turnGravityOff>false</turnGravityOff>
  </gazebo>
  <gazebo reference="arm_2_link_5">
    <!--<material value="youbot/DarkGrey" />-->
    <turnGravityOff>false</turnGravityOff>
  </gazebo>
  <transmission name="arm_2_trans_1" type="pr2_mechanism_model/SimpleTransmission">
    <actuator name="arm_2_motor_1"/>
    <joint name="arm_2_joint_1"/>
    <mechanicalReduction>1</mechanicalReduction>
  </transmission>
  <transmission name="arm_2_trans_2" type="pr2_mechanism_model/SimpleTransmission">
    <actuator name="arm_2_motor_2"/>
    <joint name="arm_2_joint_2"/>
    <mechanicalReduction>1</mechanicalReduction>
  </transmission>
  <transmission name="arm_2_trans_3" type="pr2_mechanism_model/SimpleTransmission">
    <actuator name="arm_2_motor_3"/>
    <joint name="arm_2_joint_3"/>
    <mechanicalReduction>1</mechanicalReduction>
  </transmission>
  <transmission name="arm_2_trans_4" type="pr2_mechanism_model/SimpleTransmission">
    <actuator name="arm_2_motor_4"/>
    <joint name="arm_2_joint_4"/>
    <mechanicalReduction>1</mechanicalReduction>
  </transmission>
  <transmission name="arm_2_trans_5" type="pr2_mechanism_model/SimpleTransmission">
    <actuator name="arm_2_motor_5"/>
    <joint name="arm_2_joint_5"/>
    <mechanicalReduction>1</mechanicalReduction>
  </transmission>
  
  <joint name="gripper_palm_joint" type="fixed">
    <origin rpy="0 -1.57079632679 0" xyz="0 0 0.043" />
    <parent link="arm_link_5" />
    <child link="gripper_palm_link" />
  </joint>
  <link name="gripper_palm_link">
      <visual>
          <geometry>
              <box size="0.06 0.094 0.05" />
          </geometry>
          <origin xyz="-0.03 0 0 " rpy="0 0 0." />
          <material name="Red" />
      </visual>
      <collision>
          <origin xyz="-0.03 0 0 " rpy="0 0 0." />
          <geometry>
              <box size="0.06 0.094 0.05" />
          </geometry>
      </collision>
      <inertial>
          <mass value="0.1" />
          <inertia ixx="0.03" iyy="0.03" izz="0.03" ixy="0.0" ixz="0.0" iyz="0.0" />
      </inertial>
  </link>
  <joint name="gripper_finger_joint" type="fixed">
      <origin rpy="0 0 0" xyz="0.1 0 0" />
      <parent link="gripper_palm_link" />
      <child link="gripper_finger_link" />
  </joint>
  <link name="gripper_finger_link">
      <visual>
          <geometry>
              <box size=" 0.1 0.16 0.05" />
          </geometry>
          <origin xyz="-0.05 0 0 " rpy="0 0 0" />
          <material name="Red" />
      </visual>
      <collision>
          <origin xyz="-0.05 0 0 " rpy="0 0 0" />
          <geometry>
              <box size=" 0.1 0.16 0.05" />
          </geometry>
      </collision>
      <inertial>
          <mass value="0.1" />
          <inertia ixx="0.03" iyy="0.03" izz="0.03" ixy="0.0" ixz="0.0" iyz="0.0" />
      </inertial>
  </link>
  

  <joint name="gripper_2_palm_joint" type="fixed">
    <origin rpy="0 0 0" xyz="0 0 0"/>
    <parent link="arm_2_link_5"/>
    <child link="gripper_2_palm_link"/>
  </joint>
  <link name="gripper_2_palm_link">
    <inertial>
      <origin rpy="0 0 0" xyz="0 0 0"/>
      <mass value="0.1"/>
      <inertia ixx="0.01" ixy="0" ixz="0" iyy="0.01" iyz="0" izz="0.01"/>
    </inertial>
    <visual>
      <origin rpy="0 0 0" xyz="0 0 0"/>
      <geometry>
        <mesh filename="package://youbot_description/meshes/youbot_gripper/palm.dae"/>
      </geometry>
      <material name="Black"/>
    </visual>
    <collision>
      <origin rpy="0 0 0" xyz="0 0 0"/>
      <geometry>
        <!--<box size="0.050 0.094 0.054"/>-->
        <mesh filename="package://youbot_description/meshes/youbot_gripper/palm_convex.dae"/>
      </geometry>
    </collision>
  </link>
  <joint name="gripper_2_finger_joint_l" type="prismatic">
    <origin rpy="0 0 3.14159265359" xyz="0.004 0.008 0.046"/>
    <parent link="gripper_2_palm_link"/>
    <child link="gripper_2_finger_link_l"/>
    <axis xyz="0 -1 0"/>
    <dynamics damping="1.0" friction="1.0"/>
    <limit effort="1" lower="0" upper="0.0115" velocity="0.1"/>
    <safety_controller k_position="20" k_velocity="25" soft_lower_limit="0.001" soft_upper_limit="0.011"/>
  </joint>
  <link name="gripper_2_finger_link_l">
    <inertial>
      <origin rpy="0 0 0" xyz="0 -0.001 0"/>
      <mass value="0.01"/>
      <inertia ixx="0.01" ixy="0" ixz="0" iyy="0.01" iyz="0" izz="0.01"/>
    </inertial>
    <visual>
      <origin rpy="0 0 0" xyz="0 0 0"/>
      <geometry>
        <mesh filename="package://youbot_description/meshes/youbot_gripper/finger.dae"/>
      </geometry>
      <material name="Black"/>
    </visual>
    <collision>
      <origin rpy="0 0 0" xyz="0 0 0"/>
      <geometry>
        <!--<box size="0.014 0.020 0.046"/>-->
        <mesh filename="package://youbot_description/meshes/youbot_gripper/finger_convex.dae"/>
      </geometry>
    </collision>
  </link>
  <joint name="gripper_2_finger_joint_r" type="prismatic">
    <origin rpy="0 0 0" xyz="0.004 -0.008 0.046"/>
    <parent link="gripper_2_palm_link"/>
    <child link="gripper_2_finger_link_r"/>
    <axis xyz="0 -1 0"/>
    <dynamics damping="1.0" friction="1.0"/>
    <limit effort="1" lower="0" upper="0.0115" velocity="0.1"/>
    <safety_controller k_position="20" k_velocity="25" soft_lower_limit="0.001" soft_upper_limit="0.011"/>
  </joint>
  <link name="gripper_2_finger_link_r">
    <inertial>
      <origin rpy="0 0 0" xyz="0.000 -0.001 0"/>
      <mass value="0.01"/>
      <inertia ixx="0.01" ixy="0" ixz="0" iyy="0.01" iyz="0" izz="0.01"/>
    </inertial>
    <visual>
      <origin rpy="0 0 0" xyz="0 0 0"/>
      <geometry>
        <mesh filename="package://youbot_description/meshes/youbot_gripper/finger.dae"/>
      </geometry>
      <material name="Black"/>
    </visual>
    <collision>
      <origin rpy="0 0 0" xyz="0.000 0 0"/>
      <geometry>
        <!--<box size="0.014 0.020 0.046"/>-->
        <mesh filename="package://youbot_description/meshes/youbot_gripper/finger_convex.dae"/>
      </geometry>
    </collision>
  </link>
  <gazebo reference="gripper_2_palm_link">
    <material>Gazebo/Black</material>
    <turnGravityOff>false</turnGravityOff>
    <selfCollide>true</selfCollide>
  </gazebo>
  <gazebo reference="gripper_2_finger_l_link">
    <material>Gazebo/Black</material>
    <turnGravityOff>false</turnGravityOff>
    <selfCollide>true</selfCollide>
  </gazebo>
  <gazebo reference="gripper_2_finger_r_link">
    <material>Gazebo/Black</material>
    <turnGravityOff>false</turnGravityOff>
    <selfCollide>true</selfCollide>
  </gazebo>
  <transmission name="gripper_2_finger_l_trans" type="pr2_mechanism_model/SimpleTransmission">
    <actuator name="gripper_2_finger_l_motor"/>
    <joint name="gripper_2_finger_joint_l"/>
    <mechanicalReduction>1</mechanicalReduction>
  </transmission>
  <transmission name="gripper_2_finger_r_trans" type="pr2_mechanism_model/SimpleTransmission">
    <actuator name="gripper_2_finger_r_motor"/>
    <joint name="gripper_2_finger_joint_r"/>
    <mechanicalReduction>1</mechanicalReduction>
  </transmission>


  <joint name="camera_joint" type="fixed">
    <!-- <origin rpy="0 -1.57079632679 0" xyz="-0.06 0 0.028"/> -->
    <origin rpy="0 1.57079632679 0" xyz="0.06 0 0.028" />
    <parent link="arm_2_link_5" />
    <child link="camera_link" />
  </joint>
  <link name="camera_link">
      <visual>
          <geometry>
              <box size="0.025 0.090 0.025" />
          </geometry>
          <origin xyz="0 0 0 " rpy="0 0 0." />
          <material name="Red" />
      </visual>
      <collision>
          <origin xyz="0 0 0 " rpy="0 0 0." />
          <geometry>
              <box size="0.025 0.090 0.025" />
          </geometry>
      </collision>
      <inertial>
          <mass value="0.1" />
          <inertia ixx="0.03" iyy="0.03" izz="0.03" ixy="0.0" ixz="0.0" iyz="0.0" />
      </inertial>
  </link>
  
</robot>
